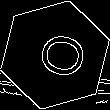O_W: (25, 28, 85, 82)
